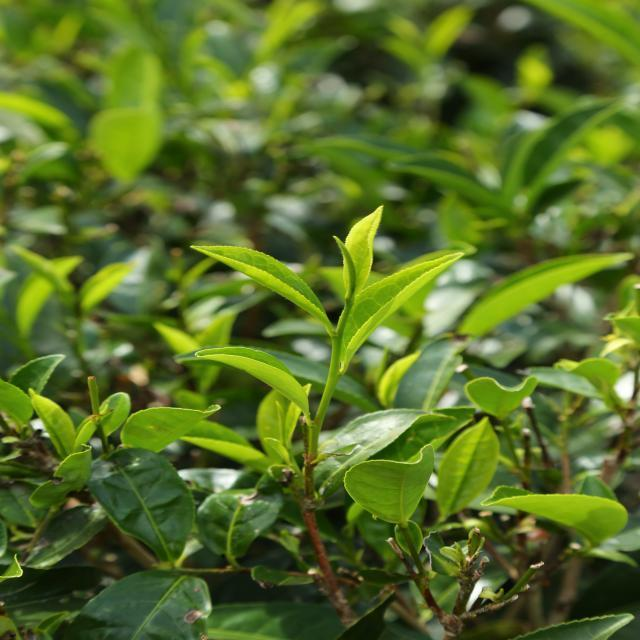Stem: (332, 333, 343, 346)
